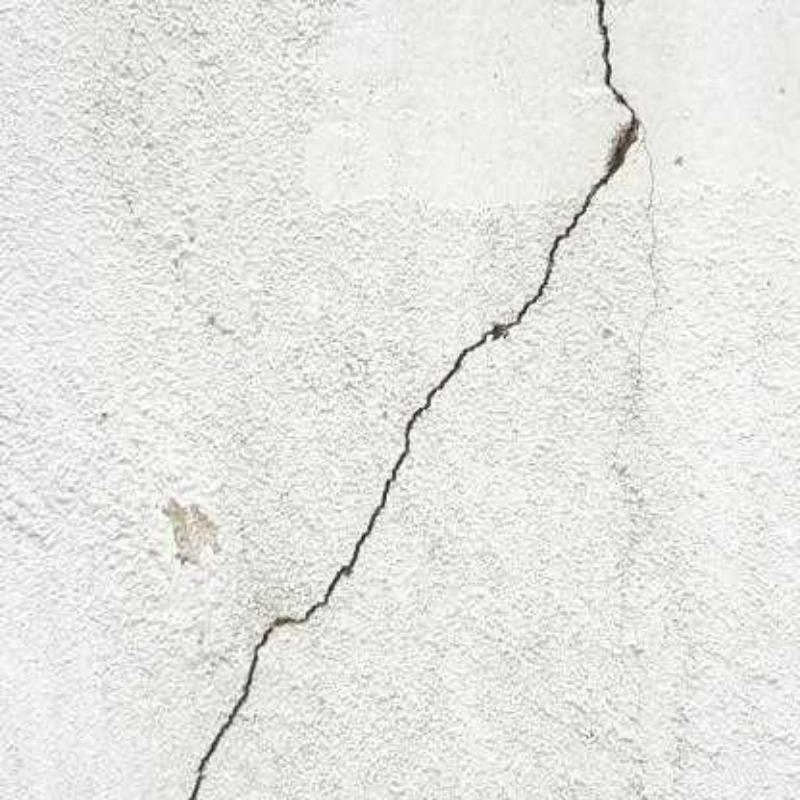pothole: (192, 0, 643, 798), (635, 125, 658, 379)
